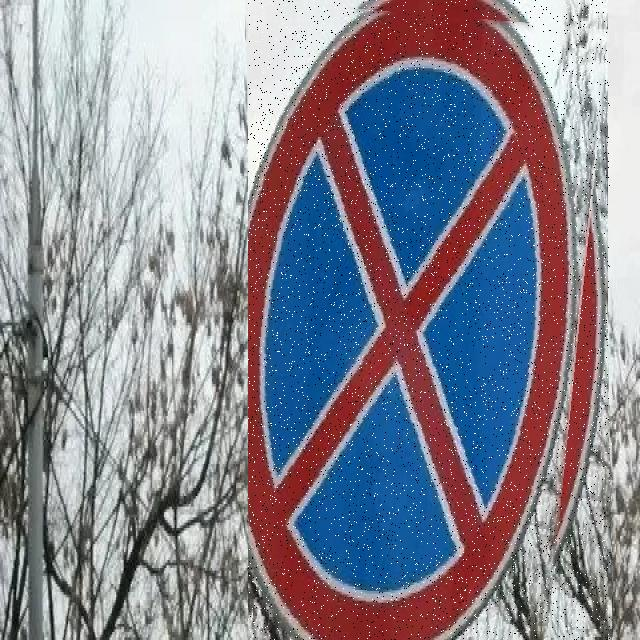no stopping: (248, 0, 610, 640)
